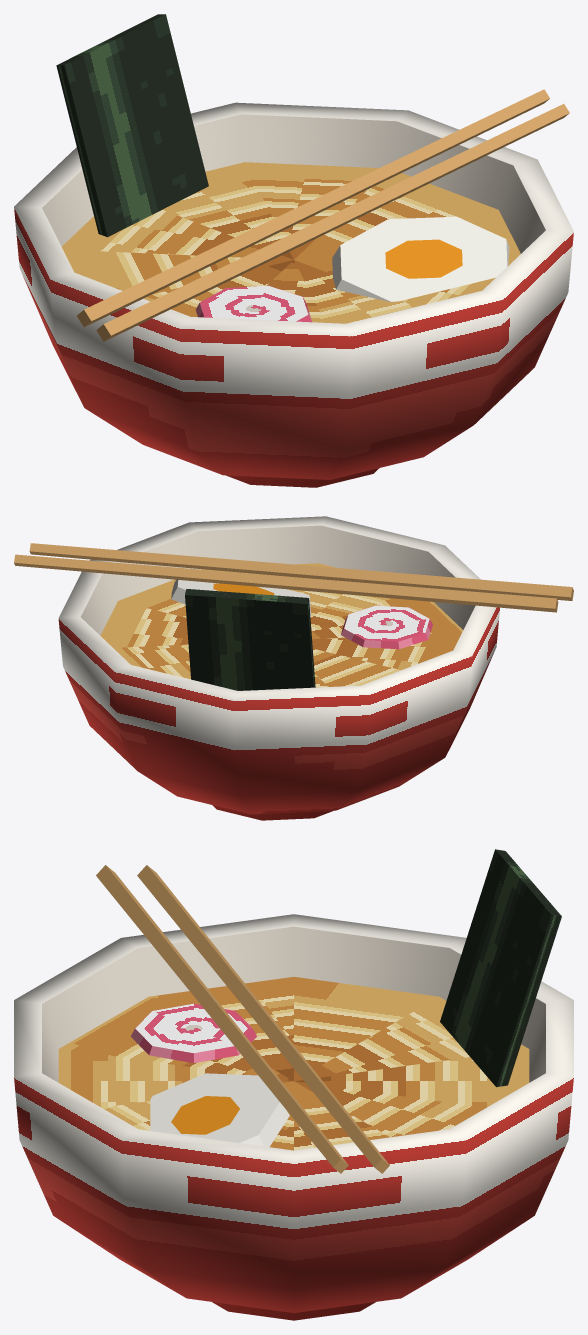
File: meals-ramen.glb
3 renders of one model, top to bottom at view 1: azimuth 30°, elevation 25°; view 2: azimuth 150°, elevation 25°; view 3: azimuth 270°, elevation 25°, orthographic. The views are drawn at different scales.
Visible parts, largest first — view 1: meals.ramen; view 2: meals.ramen; view 3: meals.ramen.
Boxes of the visible parts, <box> form: meals.ramen: <box>14,14,573,487</box>; meals.ramen: <box>14,516,573,820</box>; meals.ramen: <box>14,849,573,1320</box>.
Bounding box in the file's own units: 1.72 × 0.9695 × 1.38.
Materials: 8 (4 with a texture image).
